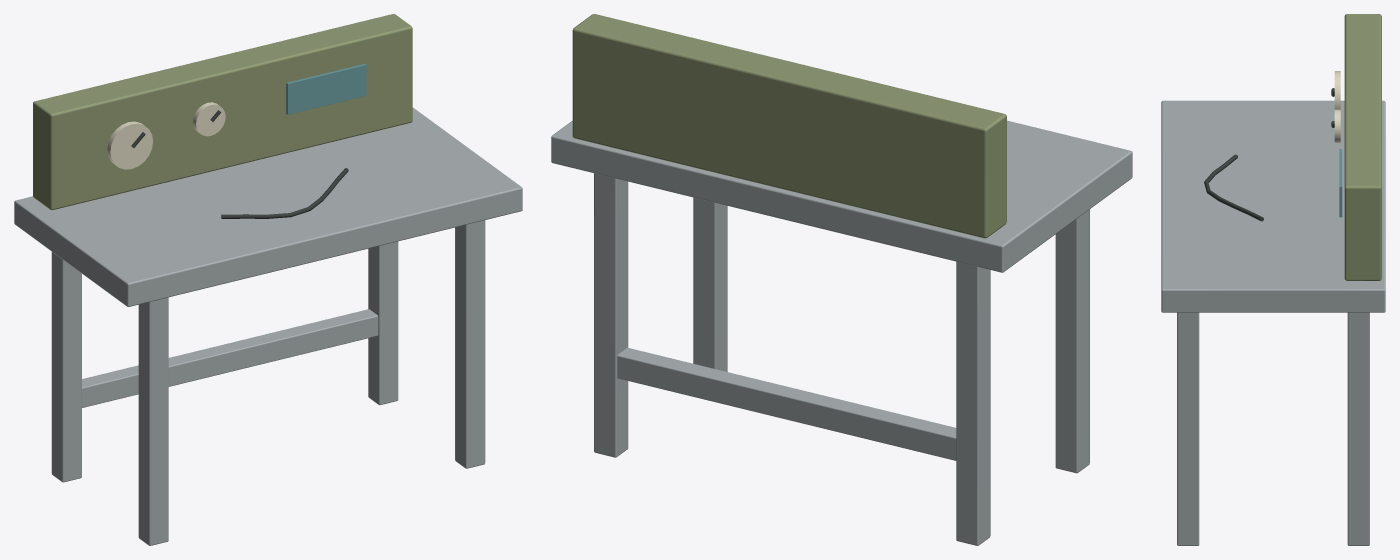
The model's file is research-and-crafting-progression-electrical-test-benc-7fd74d98__2838.glb.
3 views of the same model, side by side, from view 1: azimuth 30°, elevation 25°; view 2: azimuth 150°, elevation 25°; view 3: azimuth 270°, elevation 25° (orthographic). The views are drawn at different scales.
Visible parts, largest first — view 1: electrical-test-bench; view 2: electrical-test-bench; view 3: electrical-test-bench.
Part boxes in pixels (x1=…): electrical-test-bench: x1=14, y1=14, x2=522, y2=545; electrical-test-bench: x1=551, y1=14, x2=1132, y2=545; electrical-test-bench: x1=1161, y1=14, x2=1385, y2=545.
Size of the model in its own units: 1.2 by 1.08 by 0.6001.
